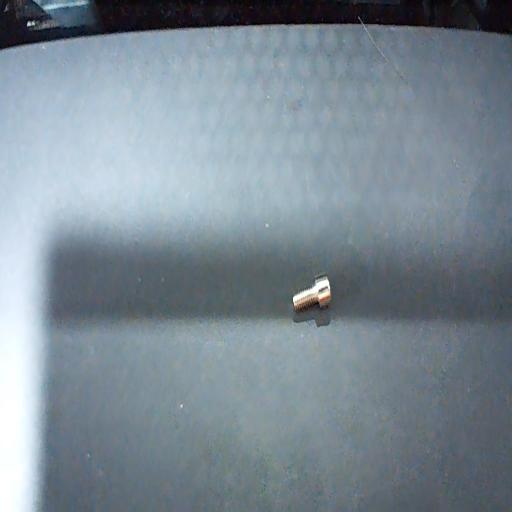screw: (292, 271, 332, 315)
